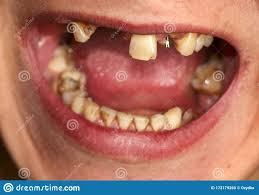decay: (57, 71, 82, 93), (101, 106, 115, 126)
normal: (164, 108, 183, 129), (134, 115, 150, 132), (73, 94, 87, 113), (63, 87, 77, 103), (151, 115, 164, 131), (195, 35, 204, 52), (184, 108, 193, 123), (204, 34, 213, 47)
rough: (129, 33, 158, 60), (160, 34, 177, 62), (73, 21, 94, 42), (192, 93, 208, 112)
yellow: (192, 66, 224, 93), (175, 34, 195, 56), (84, 102, 101, 121), (115, 110, 131, 130)
